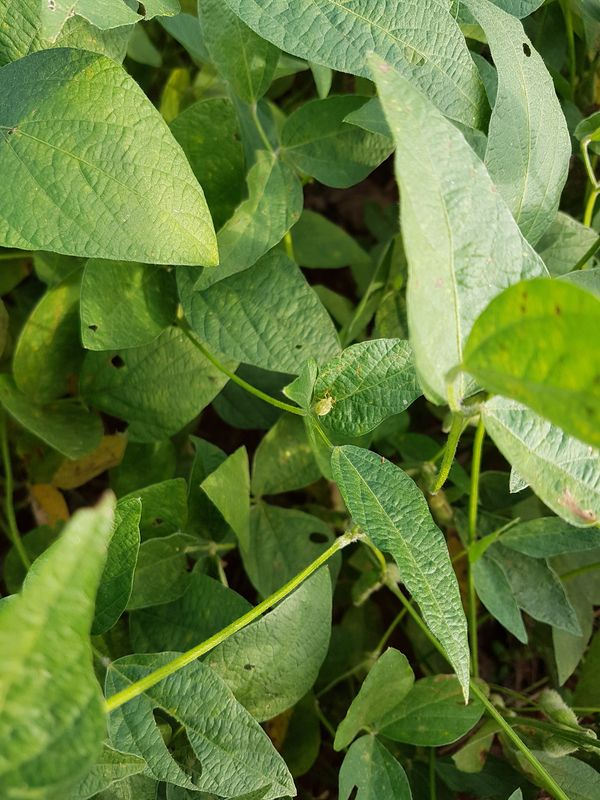Euschistus_heros_ninfa: (308, 387, 342, 422)
